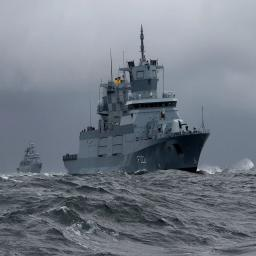Fragata: (1, 24, 137, 182), (16, 138, 46, 177)
